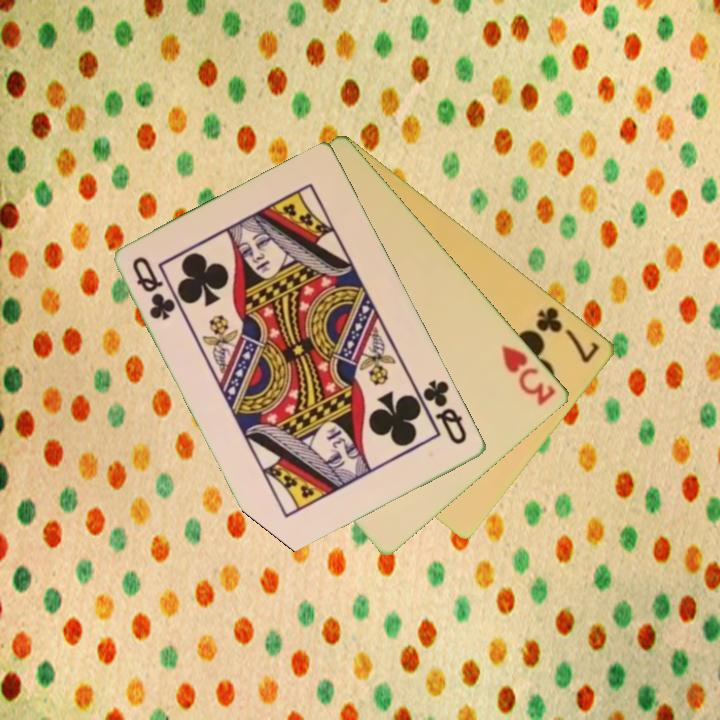3h: (498, 341, 559, 409)
7c: (532, 303, 603, 366)
Qc: (413, 376, 471, 448), (129, 253, 179, 323)
